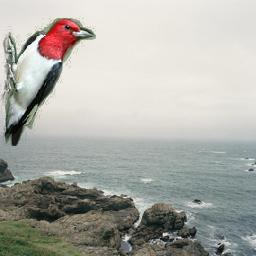Woodpecker: (0, 18, 96, 146)
